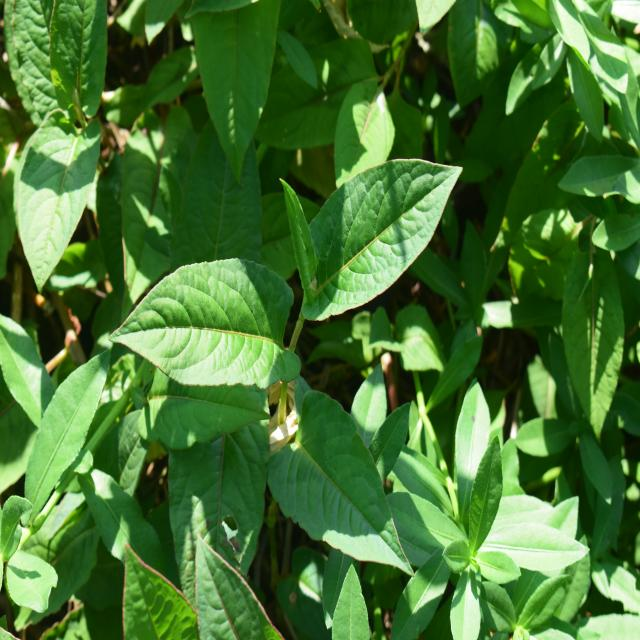Chinese_knotweed: (142, 128, 438, 571)
